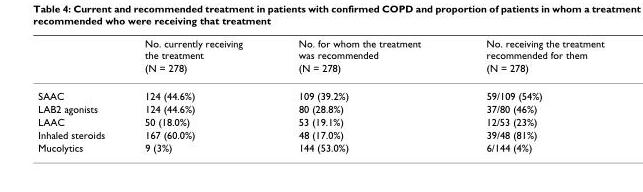table: (37, 36, 603, 153)
table column: (269, 36, 452, 153), (452, 36, 603, 153), (124, 36, 269, 153), (37, 36, 124, 153)
table column header: (37, 36, 603, 81)
table row: (37, 36, 603, 61), (37, 81, 603, 102), (37, 61, 603, 81), (37, 114, 603, 127), (37, 127, 603, 140), (37, 140, 603, 153), (37, 102, 603, 114)
table spanning cell: (269, 36, 452, 81), (452, 36, 603, 81), (124, 36, 269, 81)
